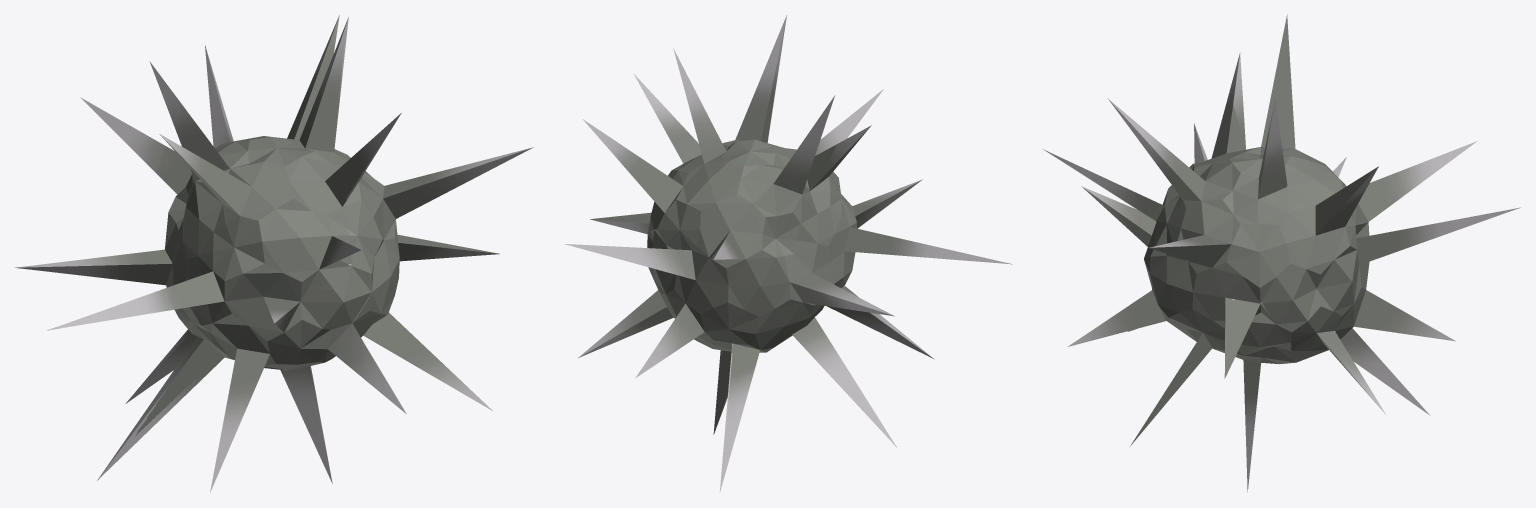
Rendered from Mace.fbx.
The picture shows the model from 3 angles, left to right: view 1: azimuth 30°, elevation 25°; view 2: azimuth 150°, elevation 25°; view 3: azimuth 270°, elevation 25°; orthographic projection. The views are drawn at different scales.
Visible parts, largest first — view 1: Icosphere; view 2: Icosphere; view 3: Icosphere.
Boxes of the visible parts, box(x1,y1,x2,y2) form: Icosphere: box(15, 15, 533, 492); Icosphere: box(564, 15, 1012, 492); Icosphere: box(1043, 14, 1520, 491).
Bounding box in the file's own units: 429 × 391 × 415.
